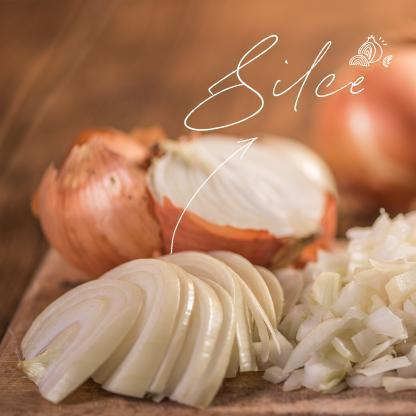onion: (56, 113, 316, 244), (60, 258, 272, 395)
